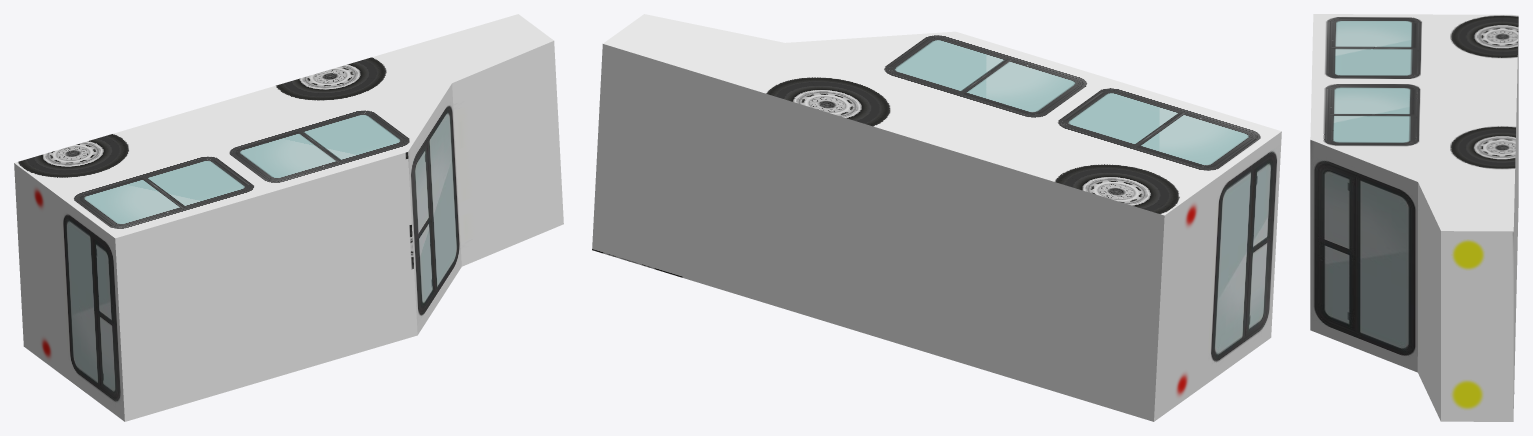
Rendered from car.glb.
3 renders of one model, left to right at view 1: azimuth 30°, elevation 25°; view 2: azimuth 150°, elevation 25°; view 3: azimuth 270°, elevation 25°, orthographic. The views are drawn at different scales.
Parts seen in each view (by area): view 1: Cube.001; view 2: Cube.001; view 3: Cube.001.
Part boxes in pixels (x1,y1,x2,y2): Cube.001: [14, 14, 563, 421]; Cube.001: [592, 14, 1281, 421]; Cube.001: [1310, 14, 1518, 421].
Bounding box in the file's own units: 5.77 × 2.3 × 2.03.
1 material, 1 textured.
